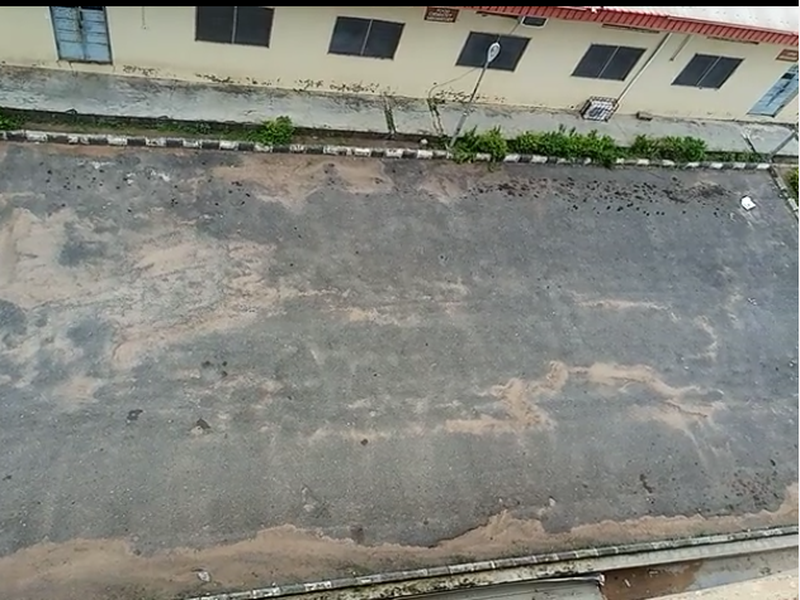five: (677, 139, 800, 323)
four: (516, 132, 633, 316)
one: (1, 111, 113, 310)
three: (337, 133, 461, 306)
two: (176, 116, 294, 311)
